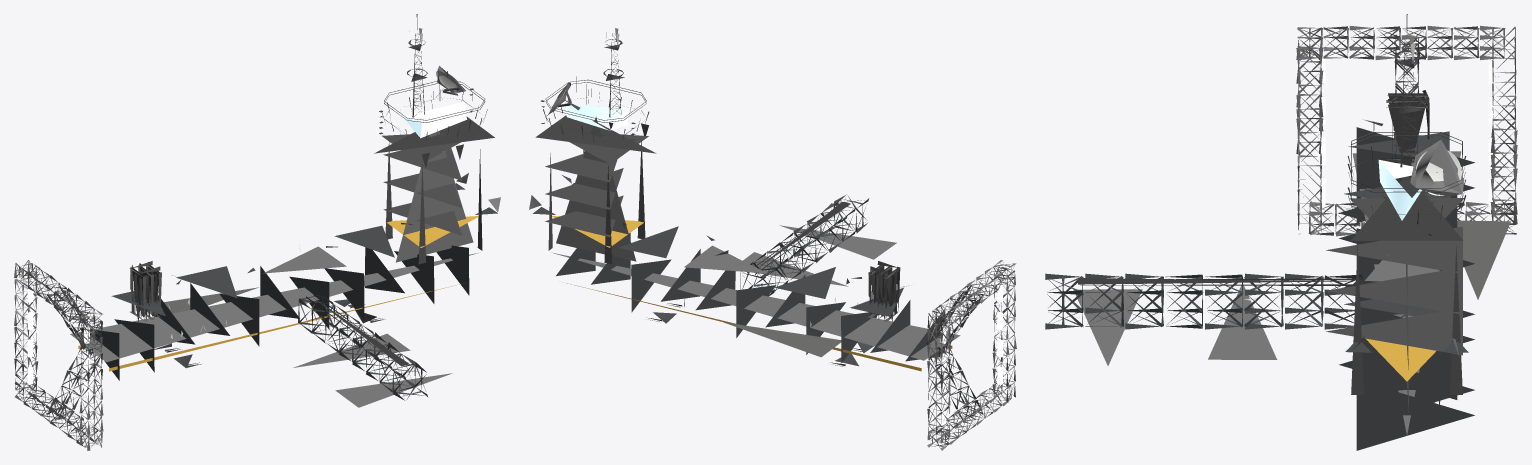
The model's file is TorwacheFern.17e447fddb.glb.
3 views of the same model, side by side, from view 1: azimuth 30°, elevation 25°; view 2: azimuth 150°, elevation 25°; view 3: azimuth 270°, elevation 25° (orthographic). The views are drawn at different scales.
Visible parts, largest first — view 1: Torwache_lack, Torwache_matt, Torwache_glow_Leitstand innen, Torwache_glow_Fenster kalt; view 2: Torwache_lack, Torwache_matt, Torwache_glow_Leitstand innen, Torwache_glow_Fenster kalt; view 3: Torwache_lack, Torwache_matt, Torwache_glow_Leitstand innen, Torwache_glow_Fenster kalt.
Boxes of the visible parts, left/top/right/bottom form: Torwache_lack: left=14, top=14, right=500, bottom=450; Torwache_matt: left=46, top=28, right=478, bottom=371; Torwache_glow_Leitstand innen: left=403, top=101, right=466, bottom=138; Torwache_glow_Fenster kalt: left=27, top=284, right=89, bottom=426; Torwache_lack: left=529, top=33, right=1016, bottom=450; Torwache_matt: left=552, top=28, right=990, bottom=371; Torwache_glow_Leitstand innen: left=564, top=105, right=628, bottom=130; Torwache_glow_Fenster kalt: left=940, top=285, right=1002, bottom=426; Torwache_lack: left=1045, top=14, right=1517, bottom=450; Torwache_matt: left=1244, top=29, right=1461, bottom=381; Torwache_glow_Leitstand innen: left=1378, top=160, right=1421, bottom=220; Torwache_glow_Fenster kalt: left=1321, top=56, right=1492, bottom=205.
Size of the model in its own units: 99.57 by 70.3 by 63.19.
